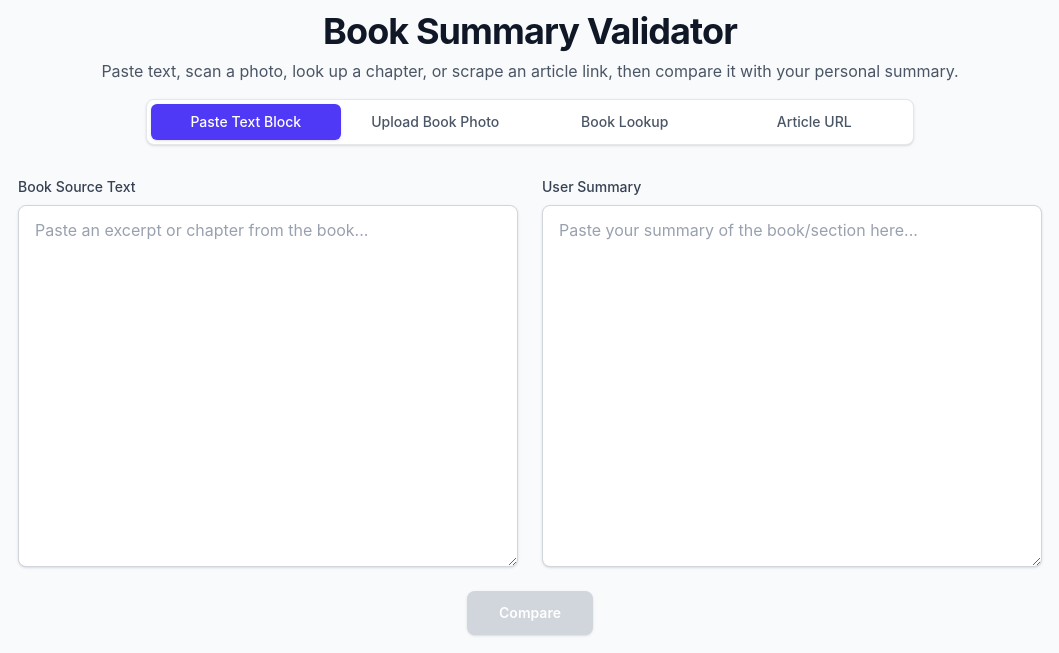
Test case: App › locks chapter or section name until title and author are filled
Click the tab "Book Lookup": (625,122) [530,104,720,140]
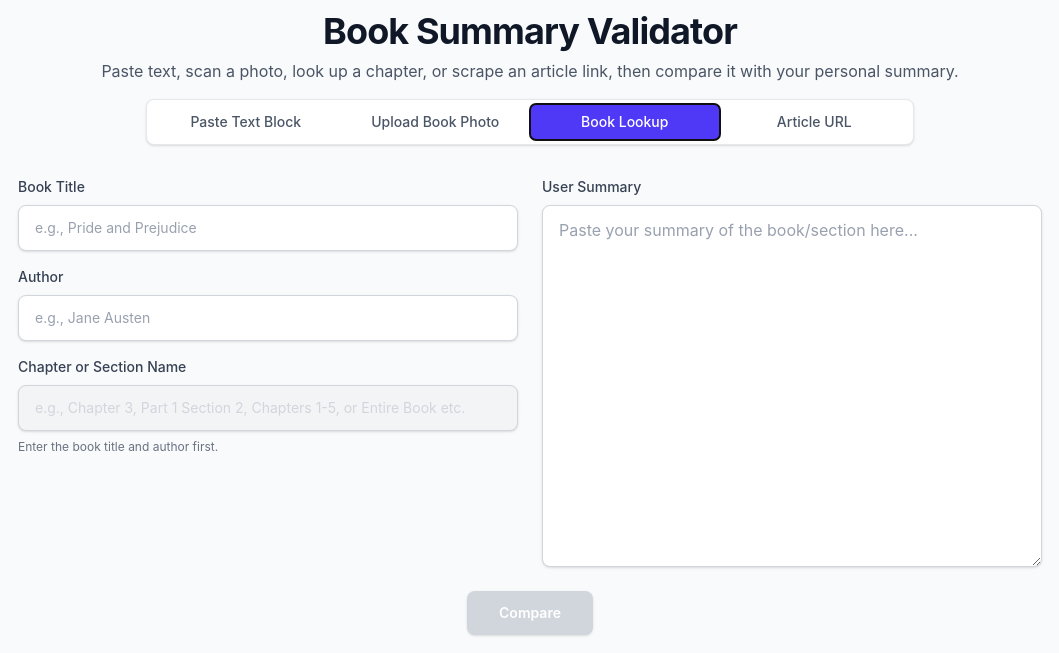
Expected: the field labelled "Chapter or Section Name" is disabled, [18,385,518,431]
In the field labelled "Book Title": (268,228) [18,205,518,251], type "Pride and Prejudice"
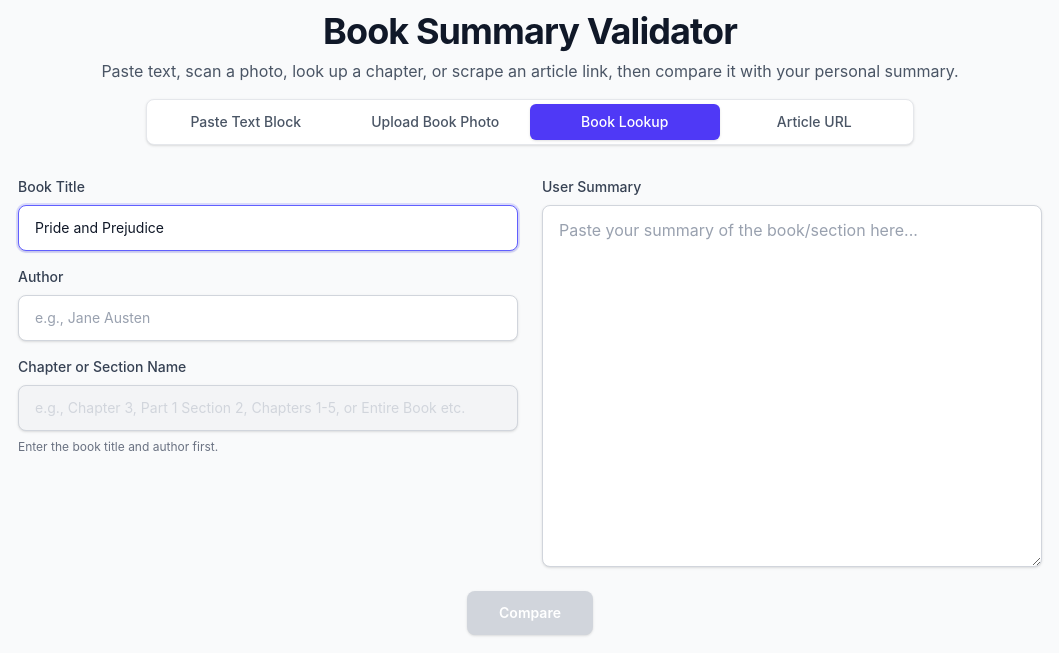
Expected: the field labelled "Chapter or Section Name" is disabled, [18,385,518,431]
In the field labelled "Author": (268,318) [18,295,518,341], type "Jane Austen"
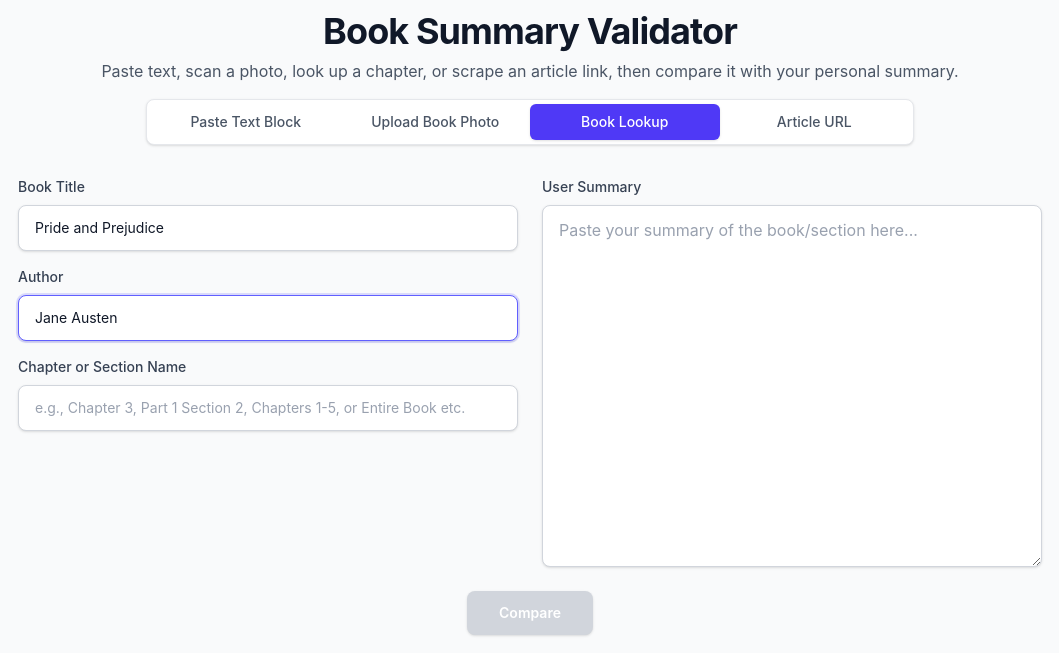
Expected: the field labelled "Chapter or Section Name" is enabled, [18,385,518,431]
